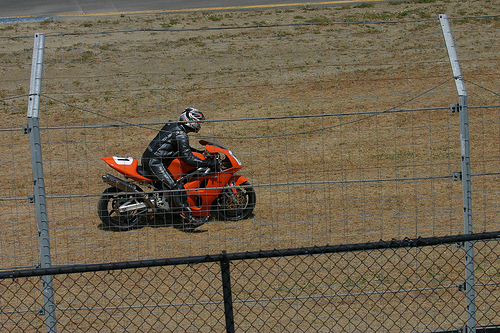helmet: (178, 106, 201, 131)
